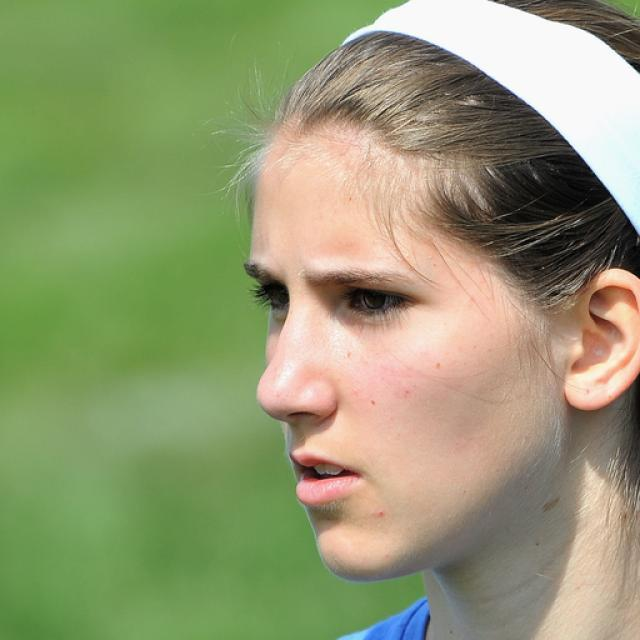anger: (248, 111, 552, 579)
